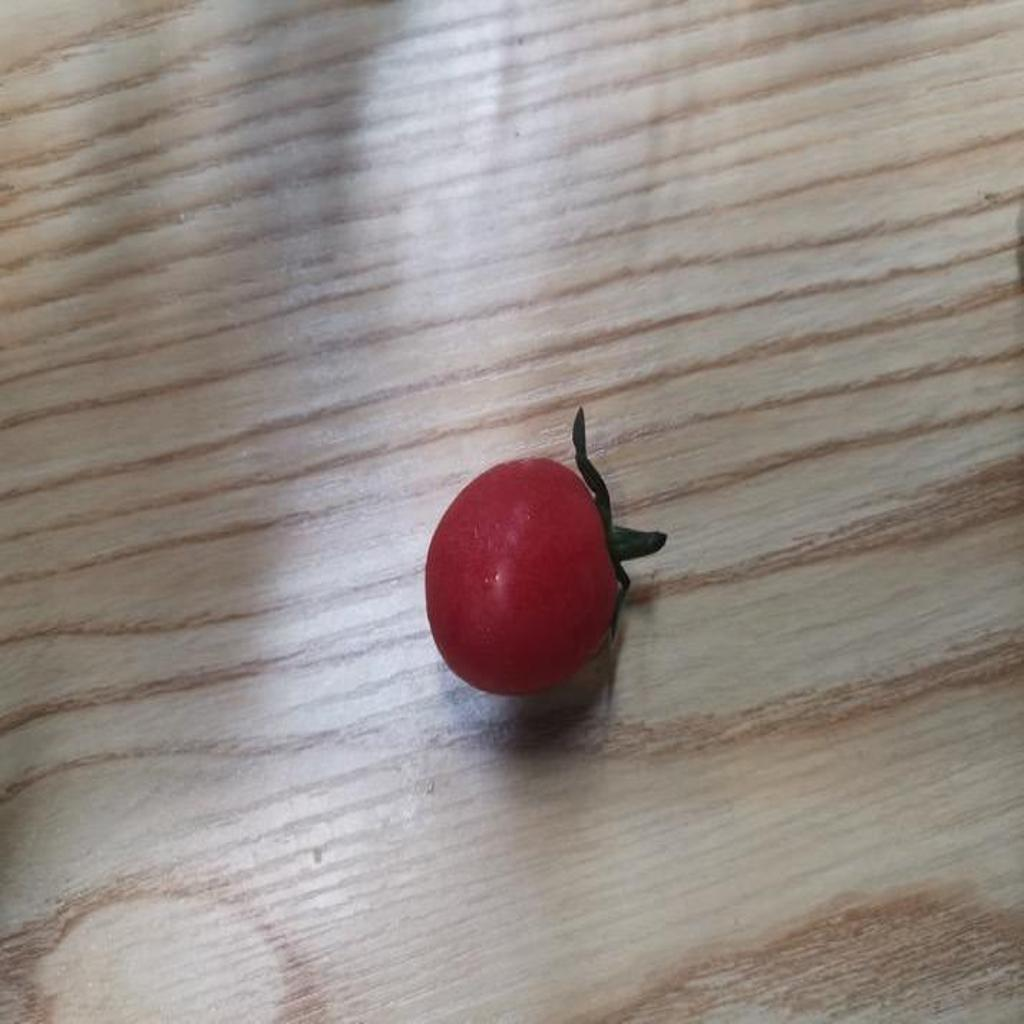tomato: (426, 451, 637, 699)
